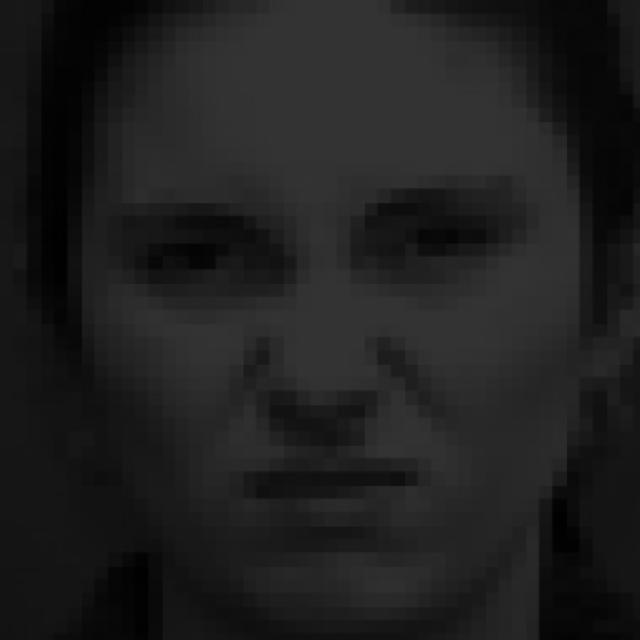Disgust: (70, 113, 580, 618)
